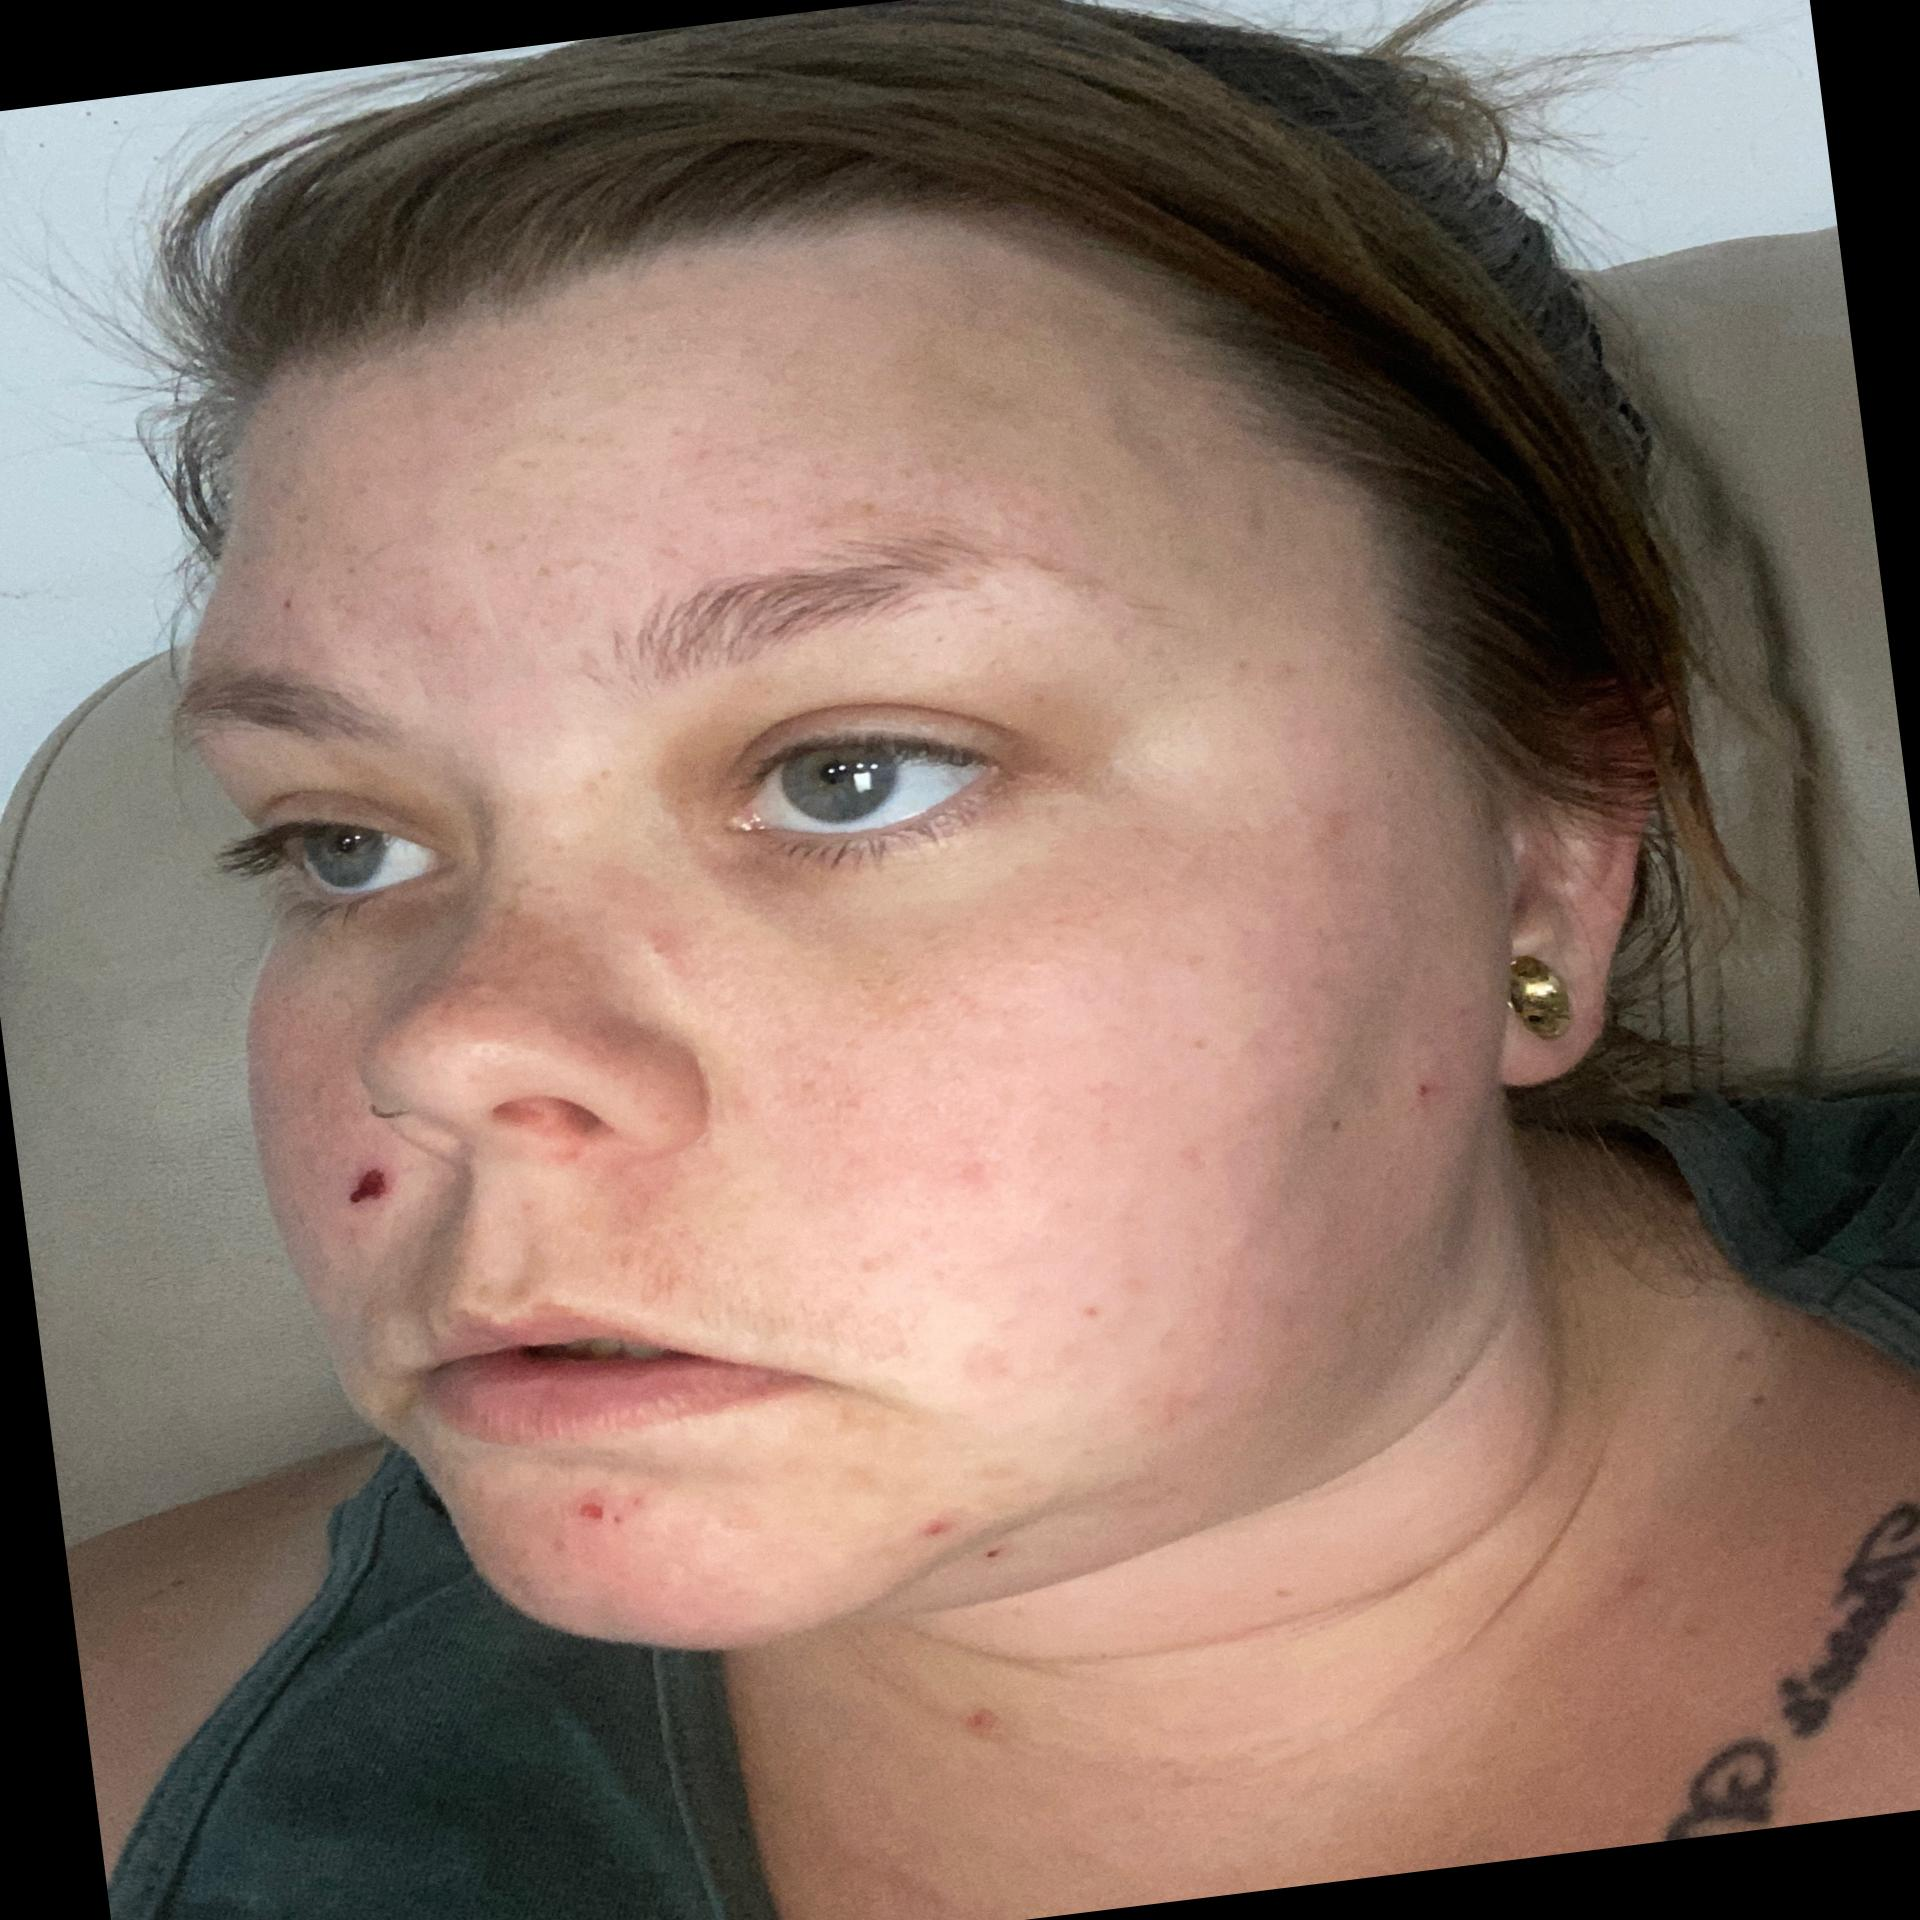Acne: (905, 1338, 1027, 1421), (552, 1479, 672, 1556), (292, 1164, 399, 1247), (874, 1496, 999, 1565), (614, 911, 721, 983), (1275, 804, 1371, 870), (1115, 1382, 1222, 1433), (930, 1143, 1016, 1206), (234, 571, 329, 624), (1060, 1276, 1122, 1336), (1389, 1053, 1452, 1106)
Wrinkles: (753, 1336, 918, 1470)
